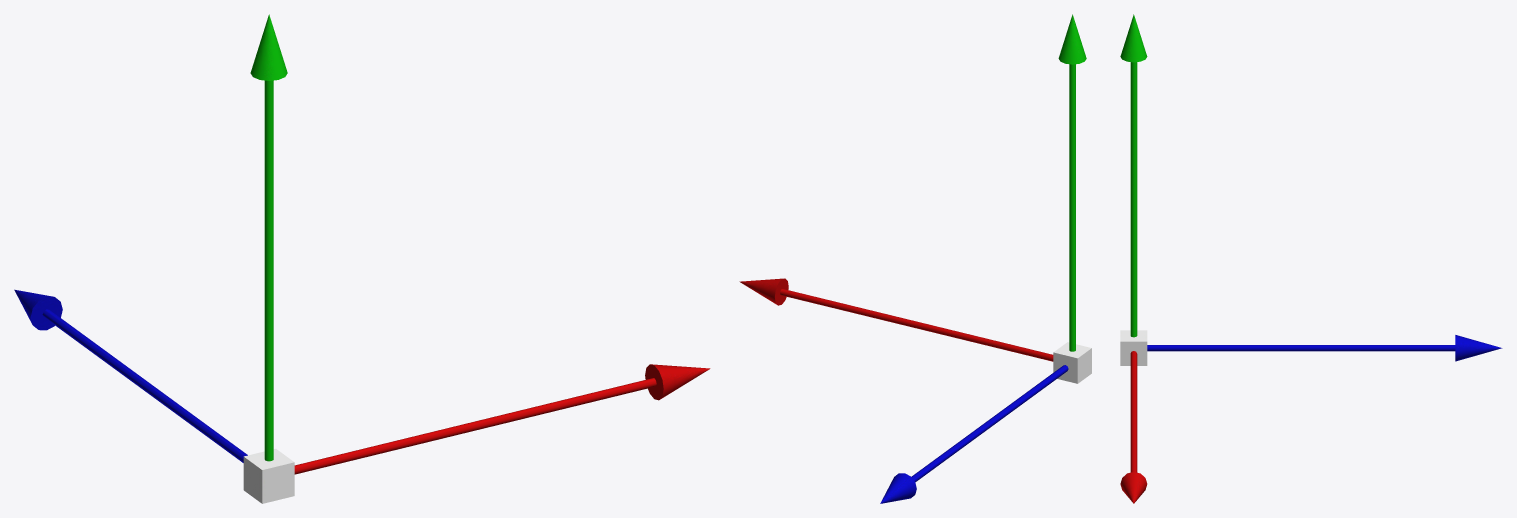
Rendered from Eixos Model.fbx.
3 views of the same model, side by side, from view 1: azimuth 30°, elevation 25°; view 2: azimuth 150°, elevation 25°; view 3: azimuth 270°, elevation 25° (orthographic). The views are drawn at different scales.
Parts seen in each view (by area): view 1: Eixos_1; view 2: Eixos_1; view 3: Eixos_1.
Boxes of the visible parts, x1,y1,x2,y2 form: Eixos_1: [14, 14, 710, 503]; Eixos_1: [739, 14, 1091, 503]; Eixos_1: [1120, 14, 1502, 503].
Size of the model in its own units: 56.69 by 56.69 by 56.69.
1 material, 1 textured.
